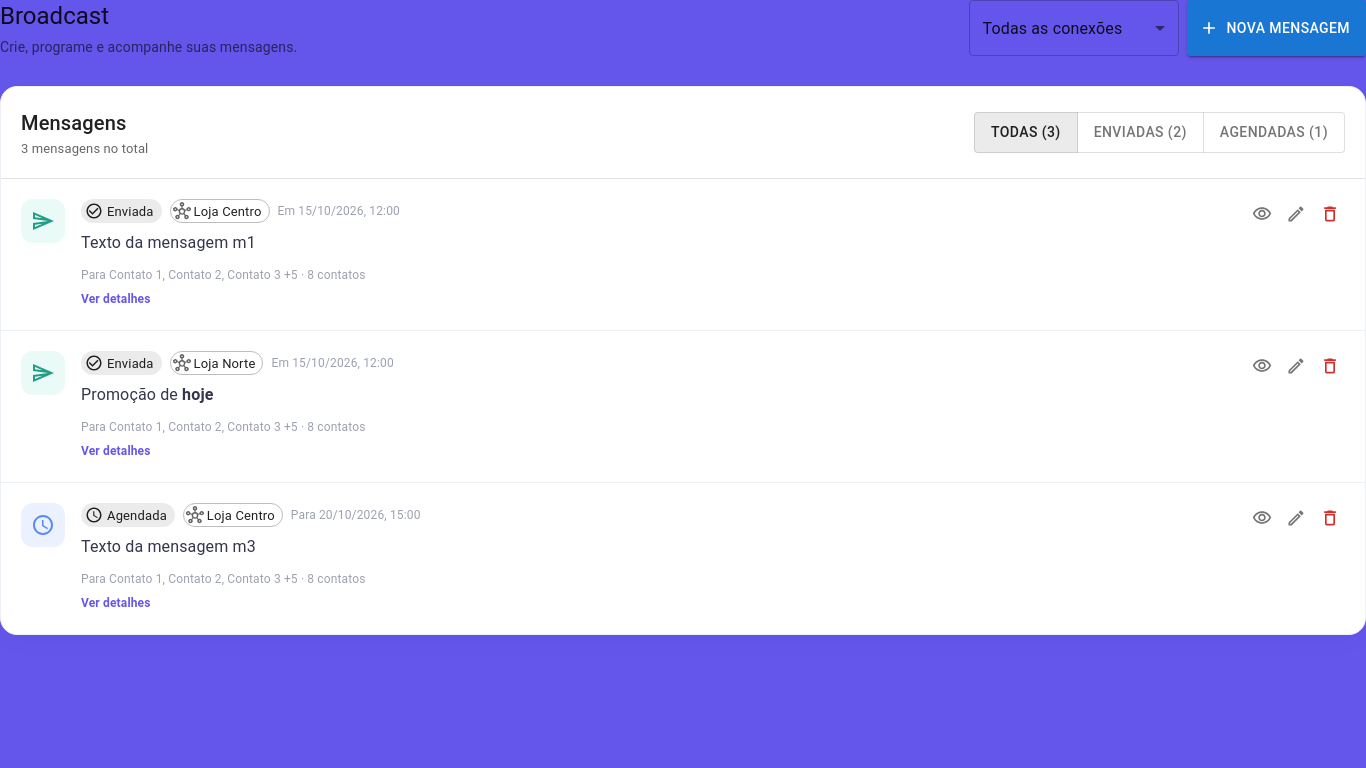
BroadcastsPage › warns that deleting a scheduled message cancels the sending
Click the button named "Excluir mensagem" in the row of "Para 20/10/2026, 15:00" at [1330, 518], box [1315, 503, 1345, 533]
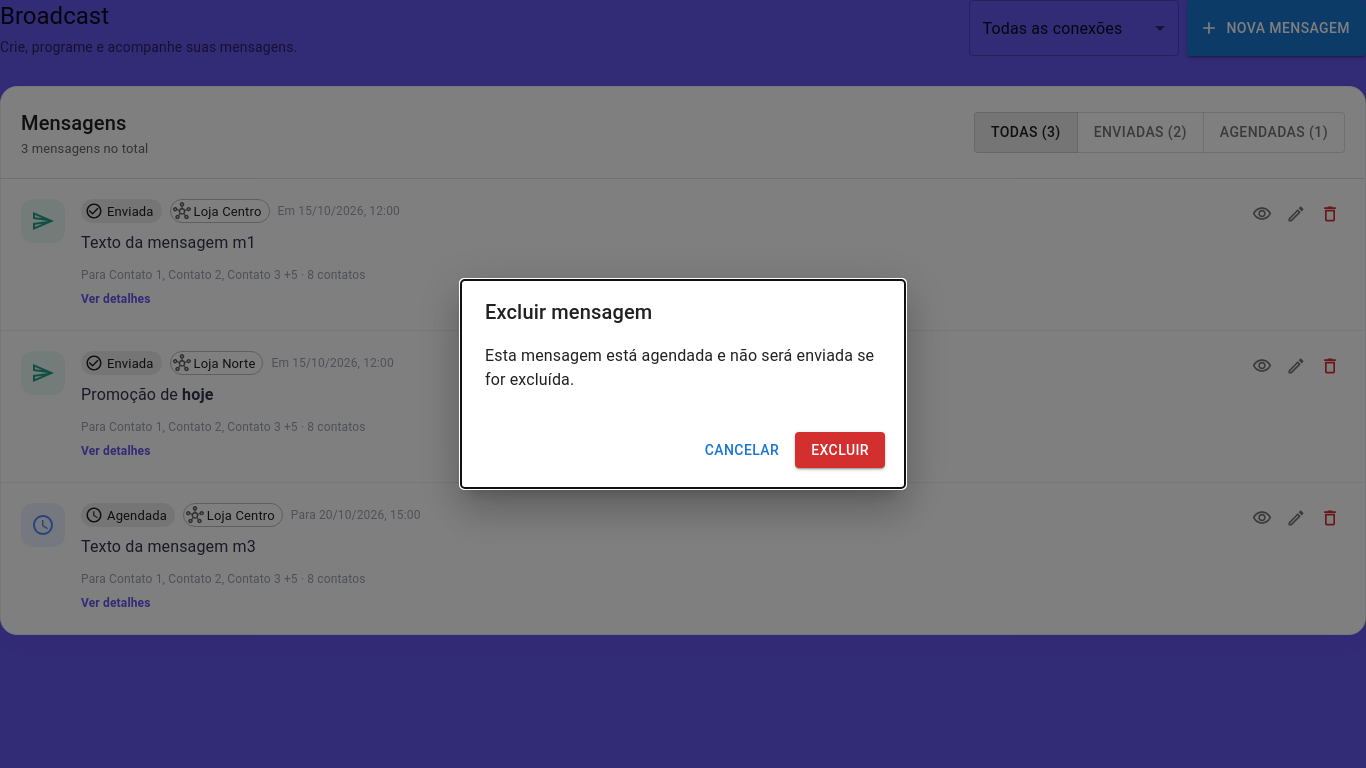
Check: the text "Esta mensagem está agendada e não será enviada se for excluída." is shown, box [485, 344, 881, 392]
